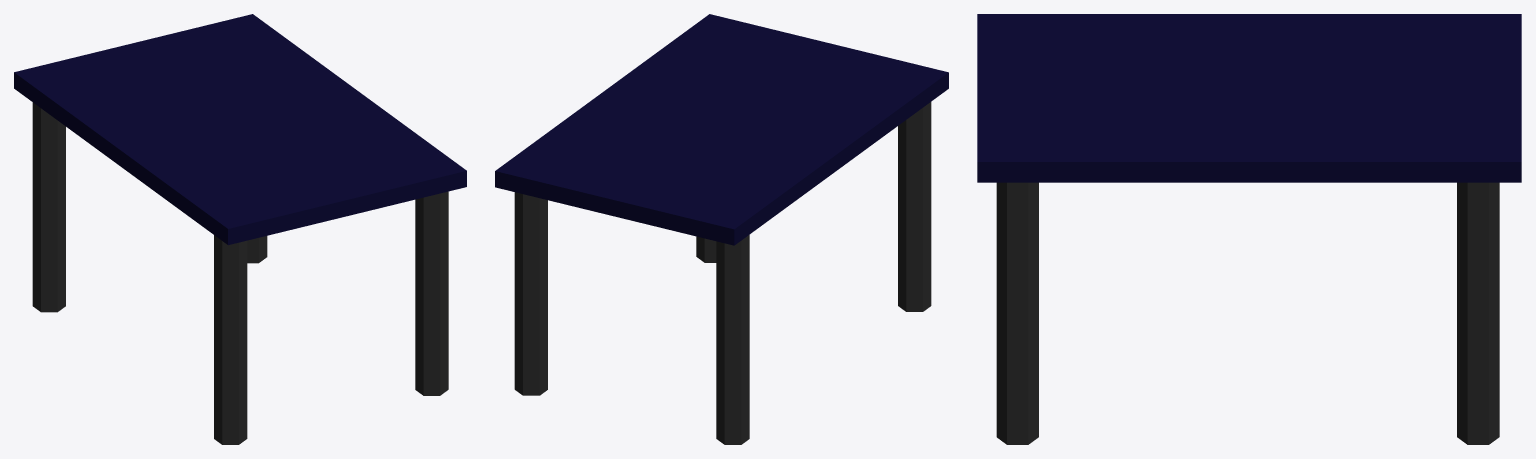
Rendered from Table_Hangar.fbx.
The picture shows the model from 3 angles, left to right: view 1: azimuth 30°, elevation 25°; view 2: azimuth 150°, elevation 25°; view 3: azimuth 270°, elevation 25°; orthographic projection. The views are drawn at different scales.
Visible parts, largest first — view 1: Table; view 2: Table; view 3: Table.
Boxes of the visible parts, x1=… form: Table: x1=14, y1=14, x2=466, y2=444; Table: x1=495, y1=14, x2=948, y2=444; Table: x1=977, y1=14, x2=1521, y2=444.
Size of the model in its own units: 238 by 215 by 370.
